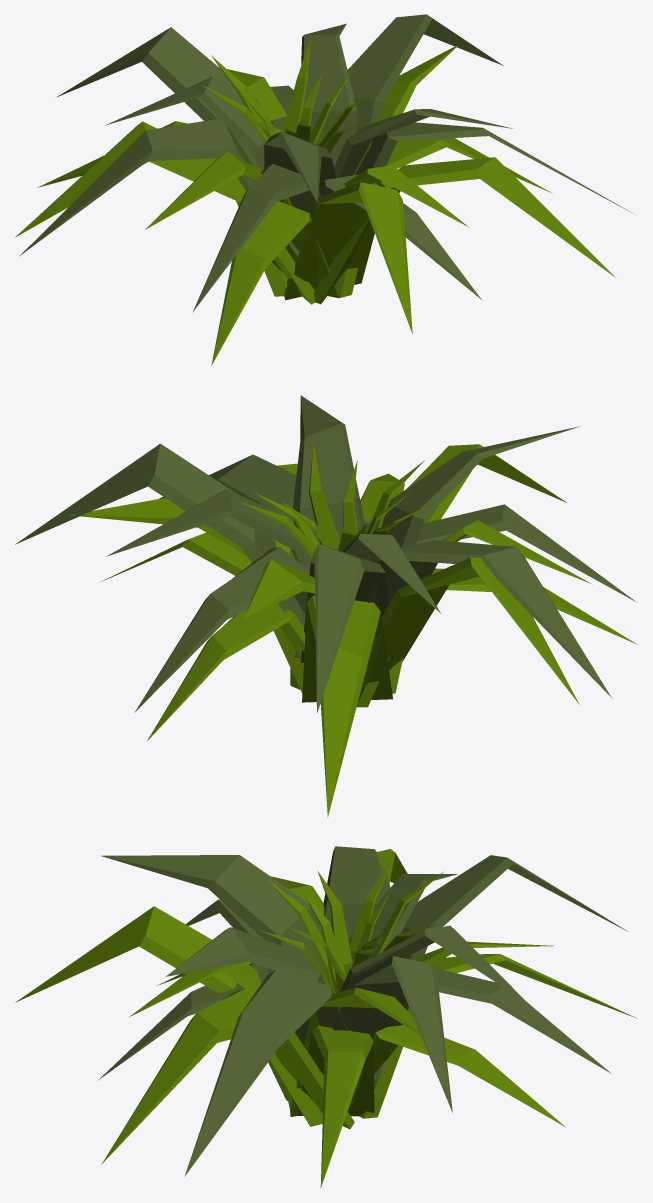
Rendered from pasto_helecho2.fbx.
The picture shows the model from 3 angles, top to bottom: view 1: azimuth 30°, elevation 25°; view 2: azimuth 150°, elevation 25°; view 3: azimuth 270°, elevation 25°; orthographic projection. The views are drawn at different scales.
Visible parts, largest first — view 1: Grass_bush_low_01, Grass_bush_low_01.001, Grass_bush_high_01; view 2: Grass_bush_low_01, Grass_bush_low_01.001, Grass_bush_high_01; view 3: Grass_bush_low_01, Grass_bush_low_01.001, Grass_bush_high_01.
Part boxes in pixels (x1,y1,x2,y2): Grass_bush_low_01: (19,14,636,312); Grass_bush_low_01.001: (15,45,615,365); Grass_bush_high_01: (201,37,385,153); Grass_bush_low_01: (15,395,637,713); Grass_bush_low_01.001: (69,444,637,817); Grass_bush_high_01: (239,443,437,557); Grass_bush_low_01: (97,846,627,1176); Grass_bush_low_01.001: (15,849,636,1187); Grass_bush_high_01: (260,857,443,992).
Size of the model in its own units: 459 by 179 by 452.
